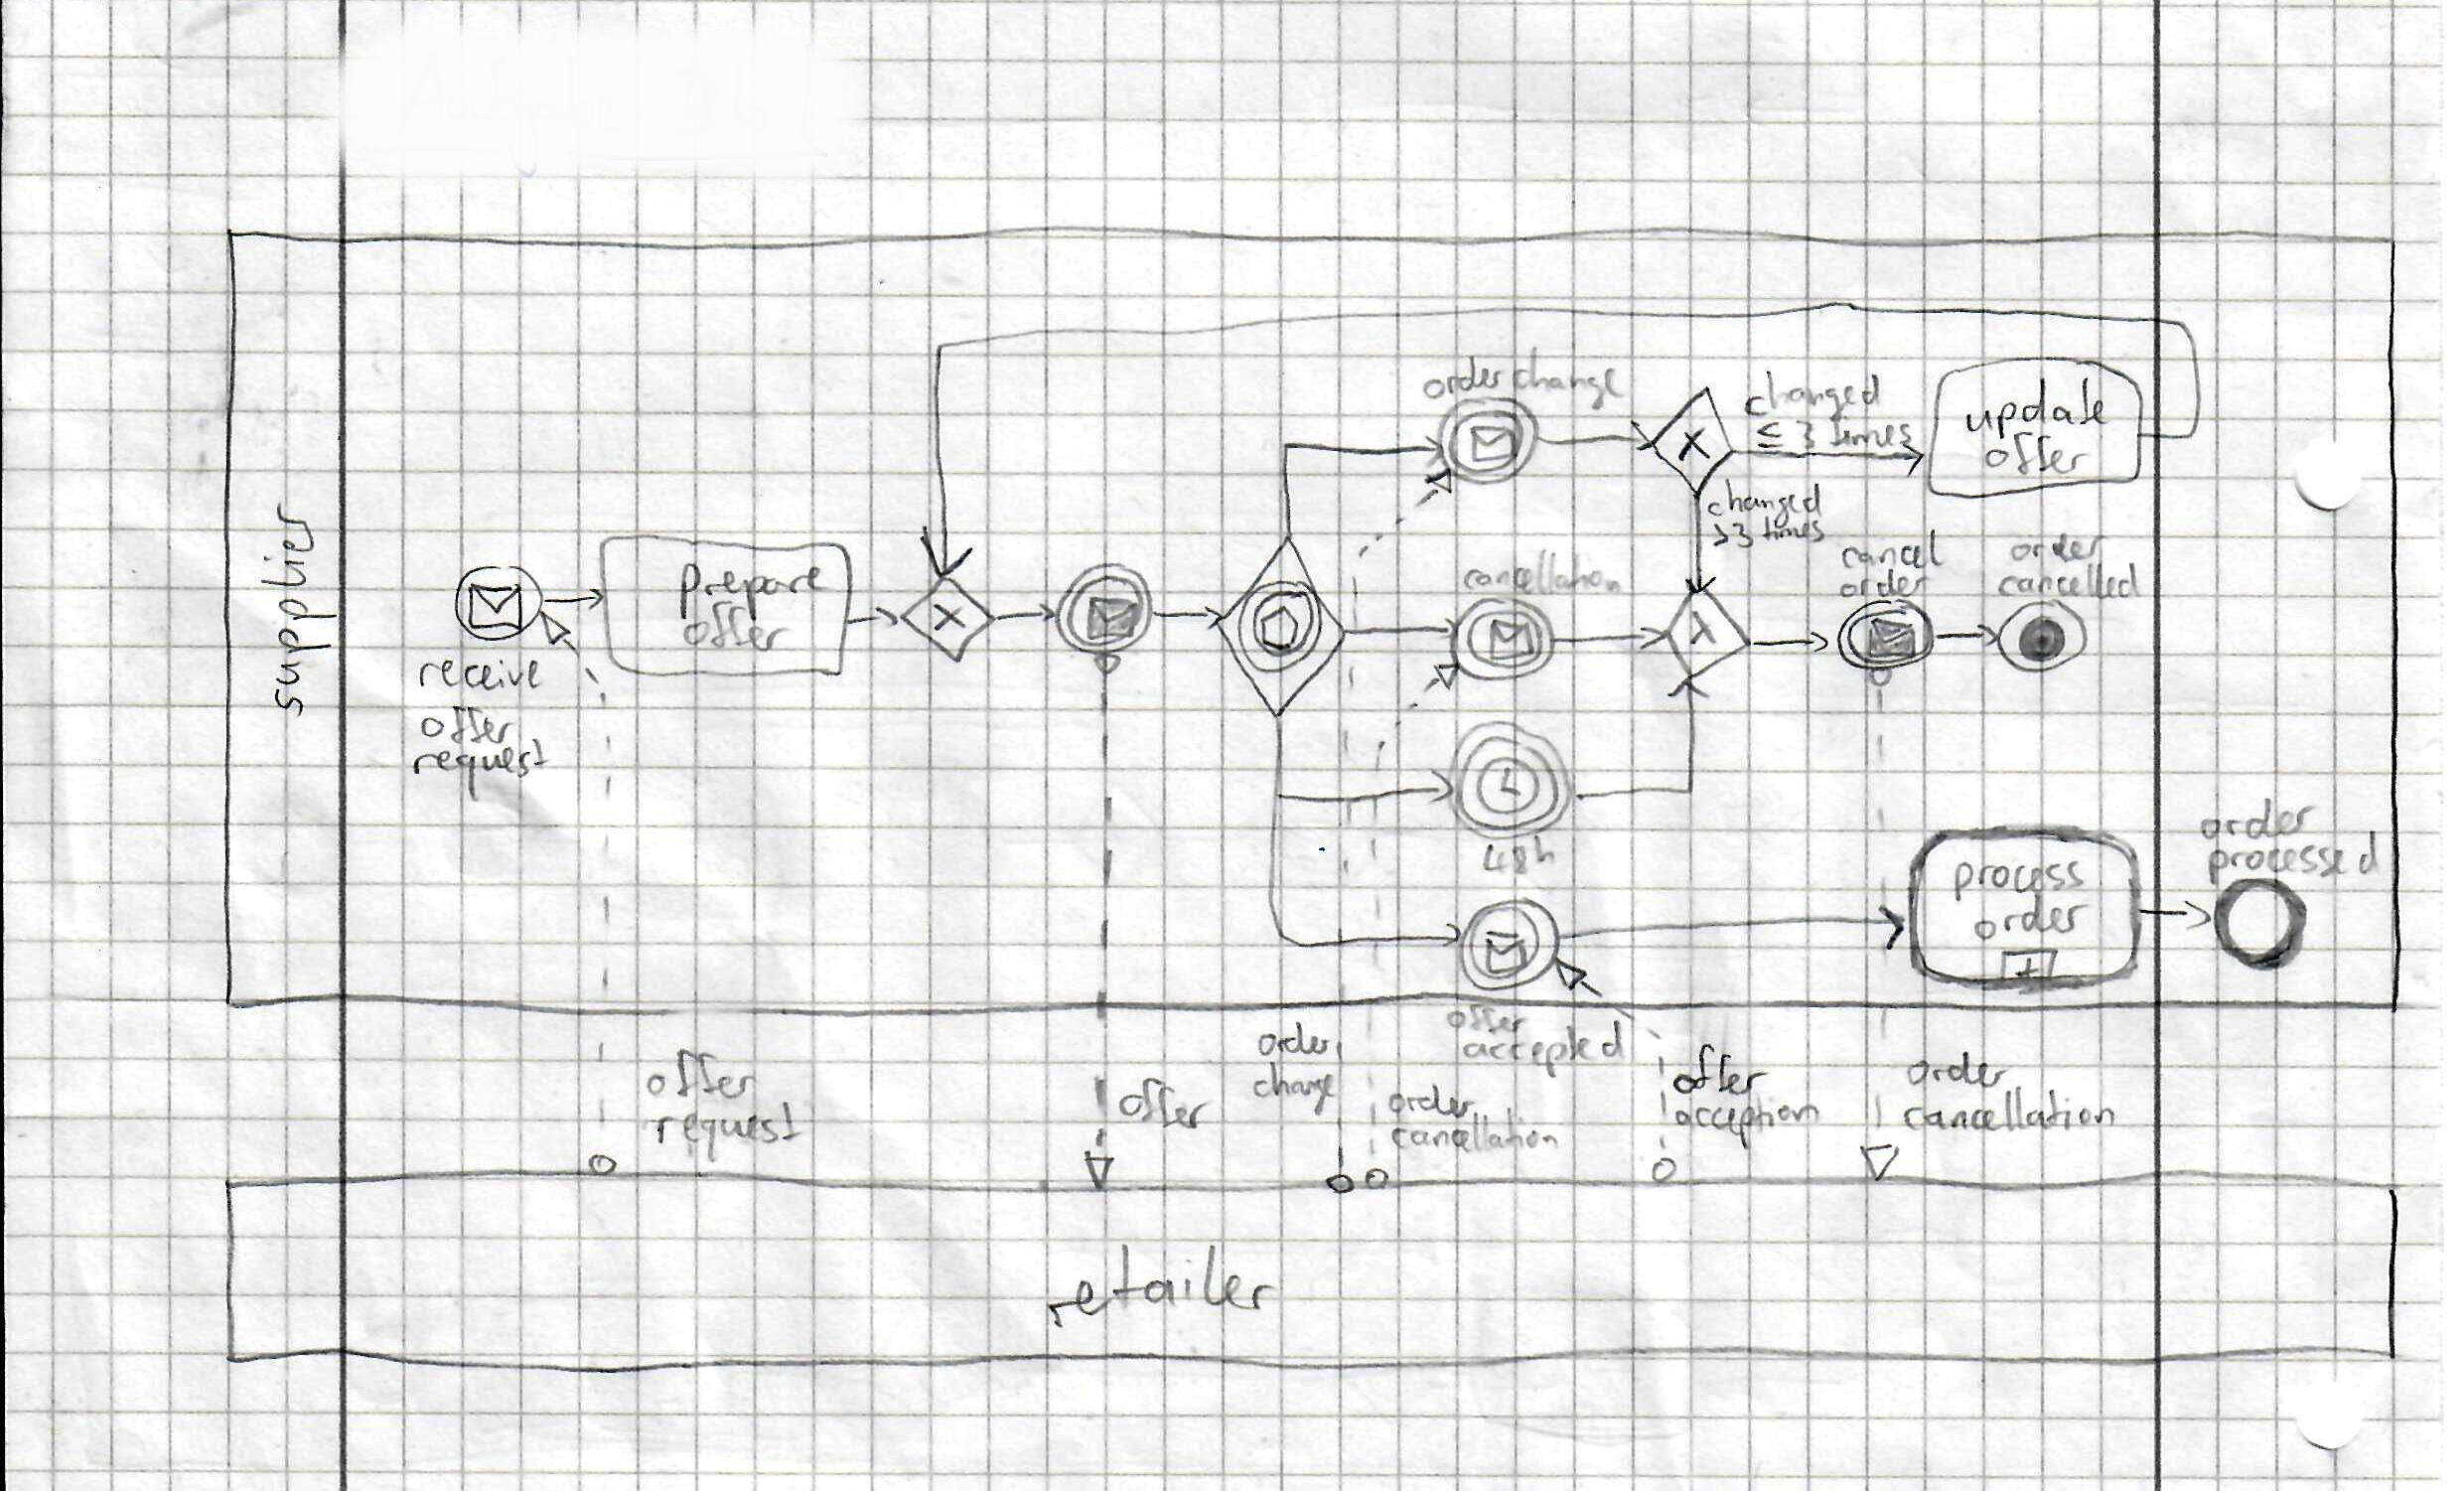48: (1475, 836, 1531, 884)
<=3: (1755, 419, 1823, 451)
>3: (1711, 521, 1755, 549)
Prepare: (676, 551, 820, 613)
accepted: (1459, 1014, 1626, 1067)
acception: (1667, 1093, 1827, 1135)
cancel: (1837, 533, 1950, 572)
cancellation: (1903, 1091, 2117, 1137), (1461, 553, 1624, 600), (1385, 1125, 1561, 1160)
cancelled: (1996, 565, 2142, 606)
change: (1510, 350, 1624, 403), (1246, 1065, 1332, 1105)
changed: (1742, 364, 1887, 426), (1705, 486, 1825, 521)
h: (1526, 820, 1558, 877)
offer: (685, 602, 790, 664), (1114, 1072, 1216, 1134), (1670, 1039, 1771, 1098), (644, 1053, 759, 1104), (1984, 433, 2091, 481), (426, 708, 519, 748), (1448, 1007, 1528, 1040)
order: (2200, 796, 2321, 845), (1975, 896, 2091, 944), (1383, 1076, 1487, 1127), (1910, 1049, 2010, 1091), (1420, 359, 1503, 407), (1837, 565, 1932, 604), (2013, 532, 2107, 565), (1257, 1025, 1332, 1061)
process: (1952, 854, 2091, 900)
processed: (2207, 836, 2381, 882)
receive: (415, 658, 546, 694)
request: (644, 1100, 804, 1155), (414, 739, 551, 785)
retailer: (1037, 1241, 1280, 1331)
supplier: (266, 505, 320, 716)
times: (1822, 412, 1918, 456), (1758, 519, 1829, 546)
update: (1969, 384, 2110, 442)
